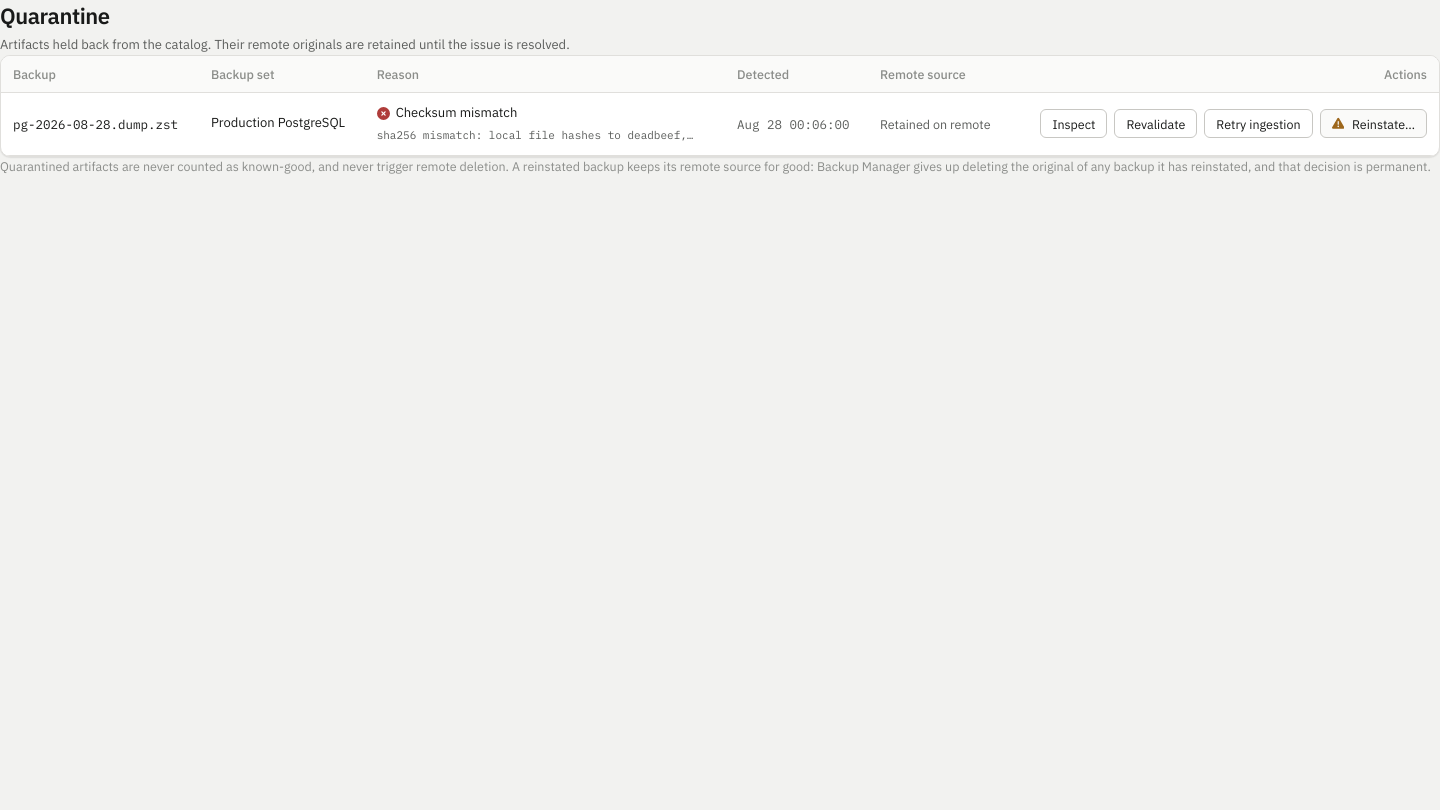
Test: QuarantinePage: the three reinstatement outcomes stay visibly different › reports a real reinstatement as a success that names the remote source it just bought
The image size is (1440, 810).
Click the button "Reinstate…" at (1373, 124), box [1320,109,1427,138]
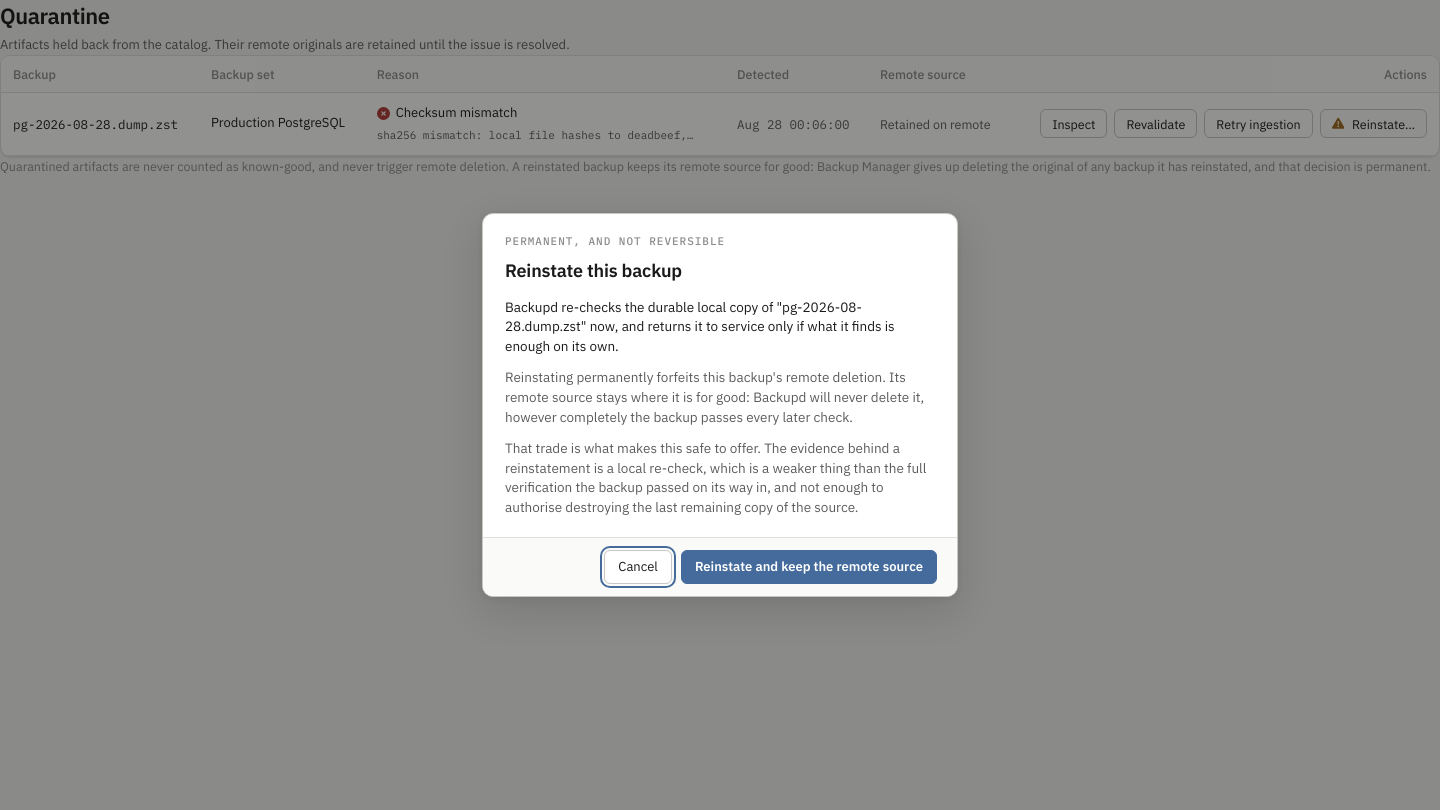
Click the button "Reinstate and keep the remote source" at (809, 567), box [681,550,937,584]
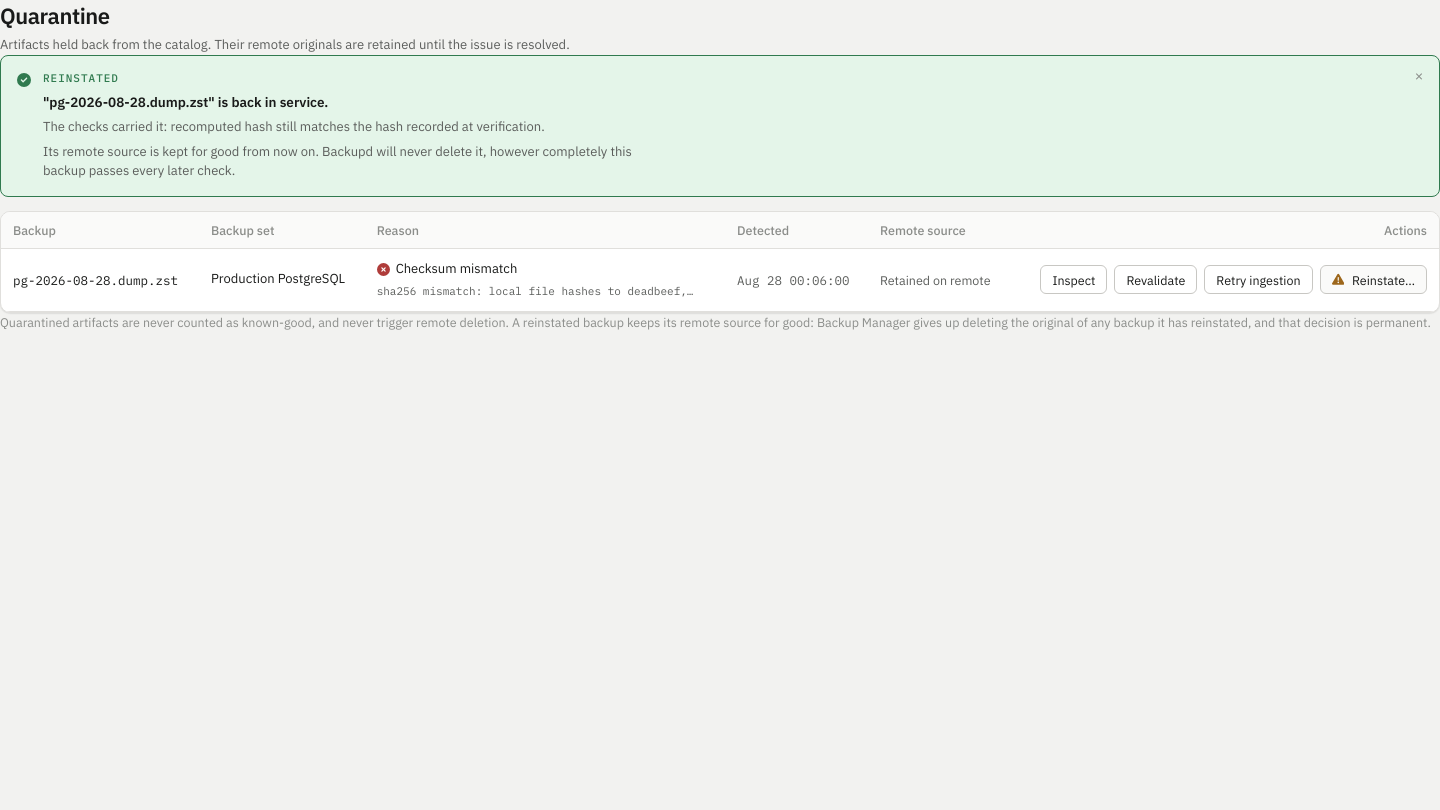
Check: the dialog is gone
Check: the text "\"pg-2026-08-28.dump.zst\" is back in service." is shown, box [43,93,328,111]
Check: the text "recomputed hash still matches the hash recorded at verification" is shown, box [43,118,545,135]
